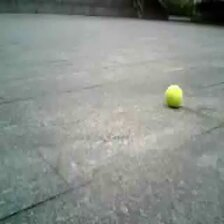tennis: (165, 84, 183, 107)
